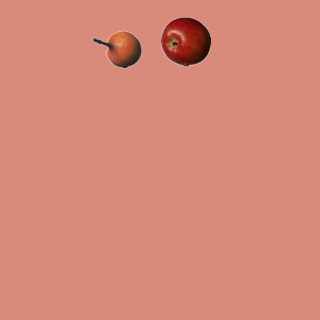Apple Braeburn: (160, 16, 210, 66)
Granadilla: (91, 24, 141, 74)
